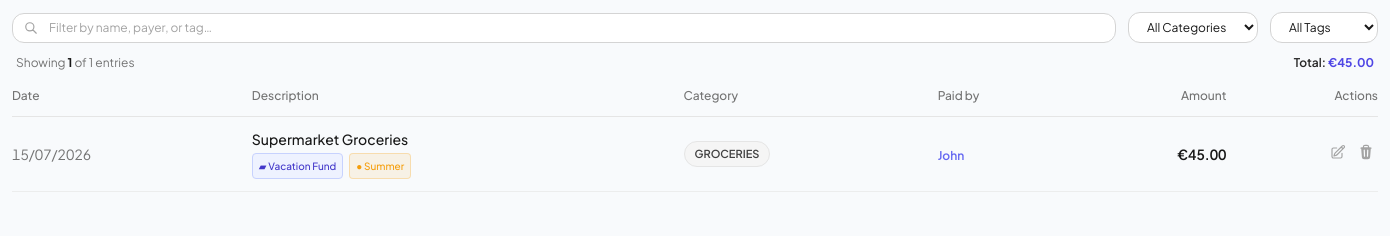
Scenario: ExpenseList.svelte — Expense Ledger List › displays delete error message when deletion API fails (Network error deleting expense)
This screenshot has width=1390, height=236.
Click the button titled "Delete expense" at (1366,152), box [1354,140,1378,164]
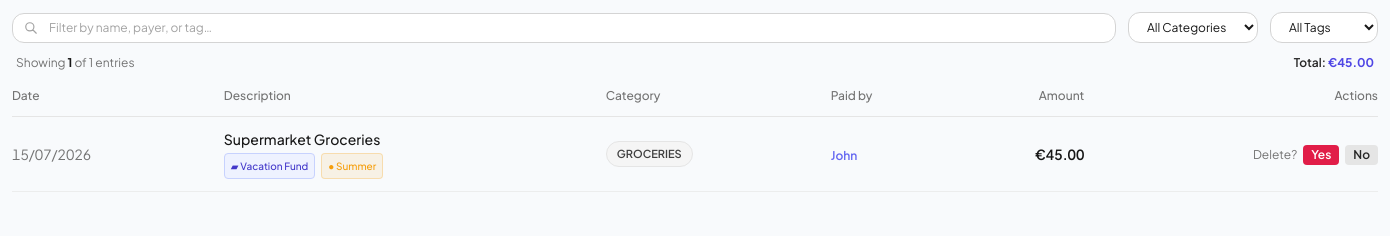
Click the button "Yes" at (1321,155), box [1303,145,1339,165]
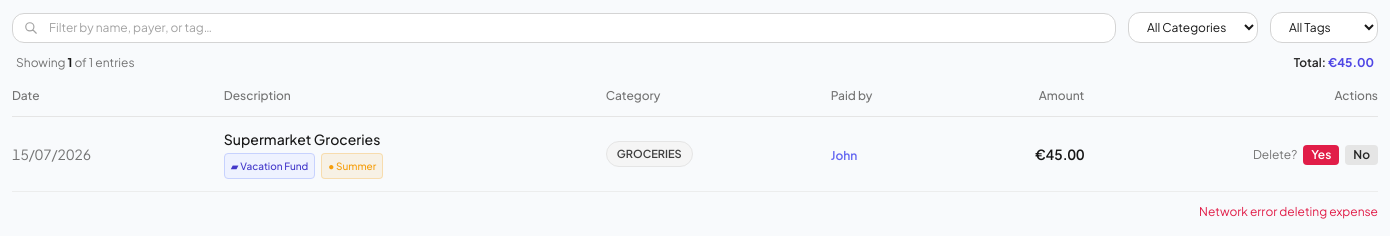
Now the text "Network error deleting expense" is shown, box [1199,204,1378,219]
